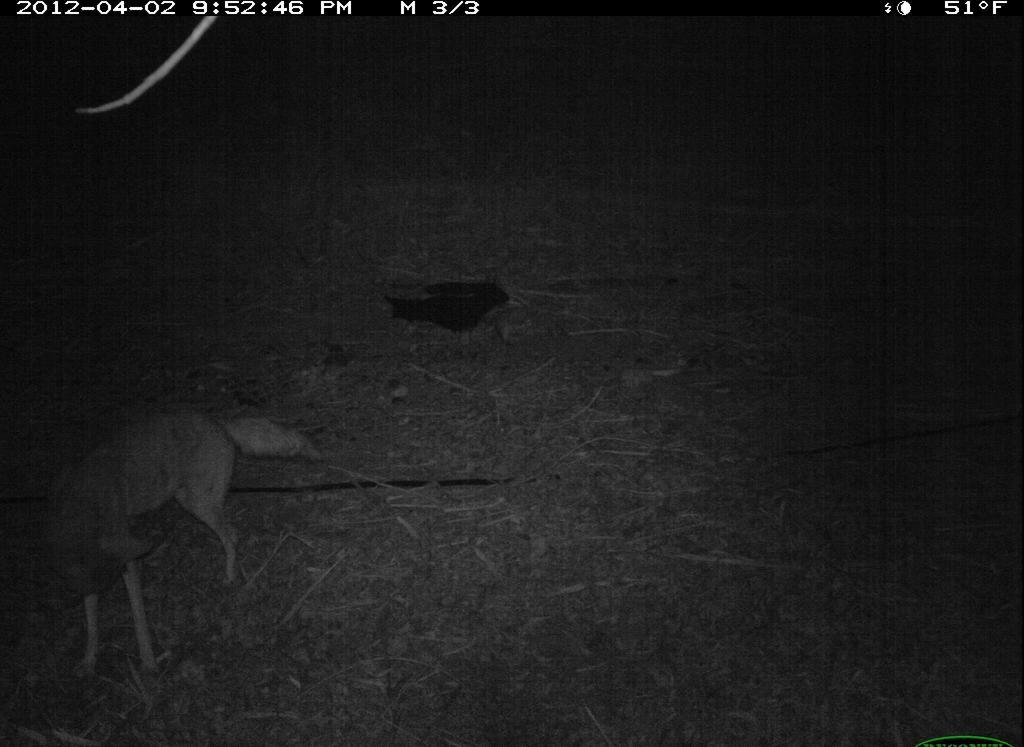coyote: (38, 406, 329, 689)
